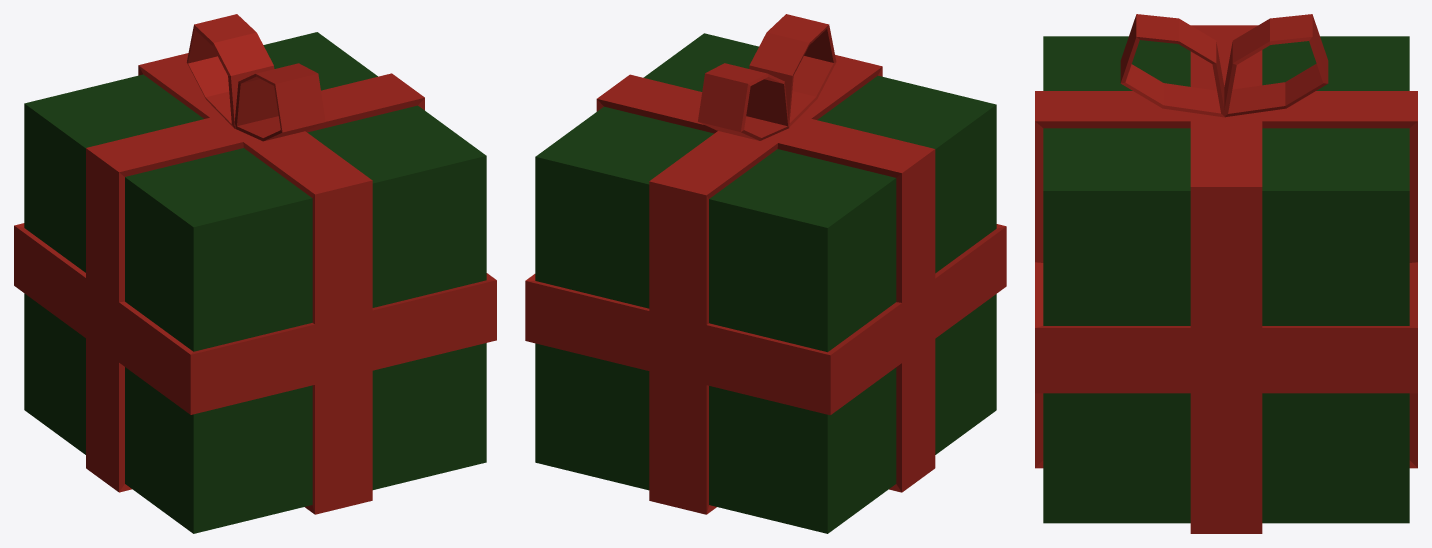
Rendered from Present_03.glb.
3 views of the same model, side by side, from view 1: azimuth 30°, elevation 25°; view 2: azimuth 150°, elevation 25°; view 3: azimuth 270°, elevation 25° (orthographic). The views are drawn at different scales.
Parts seen in each view (by area): view 1: Present_03; view 2: Present_03; view 3: Present_03.
Boxes of the visible parts, x1=… form: Present_03: x1=14, y1=14, x2=496, y2=533; Present_03: x1=525, y1=14, x2=1006, y2=533; Present_03: x1=1035, y1=14, x2=1417, y2=533.
Bounding box in the file's own units: 0.2324 × 0.2866 × 0.2324.
Materials: 1 (1 with a texture image).
